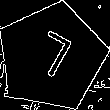L_SW: (26, 28, 77, 87)
